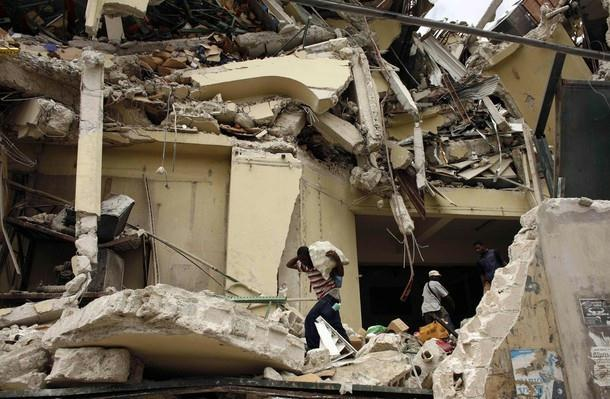victim: (284, 242, 356, 373), (419, 266, 458, 338), (466, 238, 512, 298)
